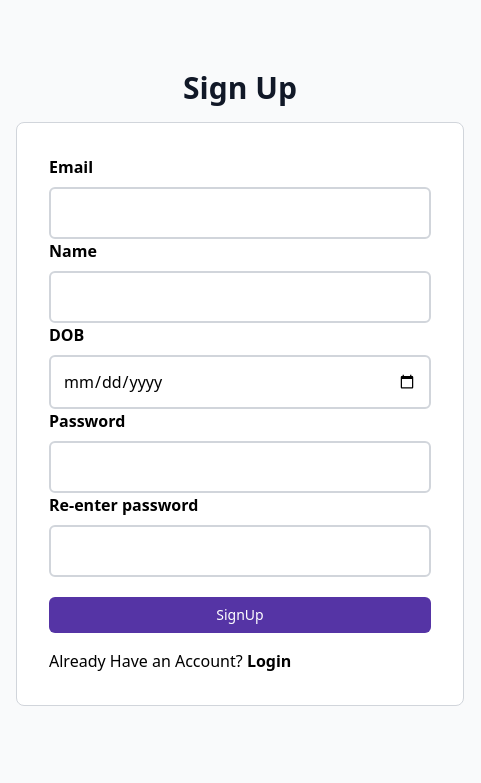
validation › Invalid email format
Type "invalidemail" into the field labelled "Email" at [240, 213], box [49,187,431,239]
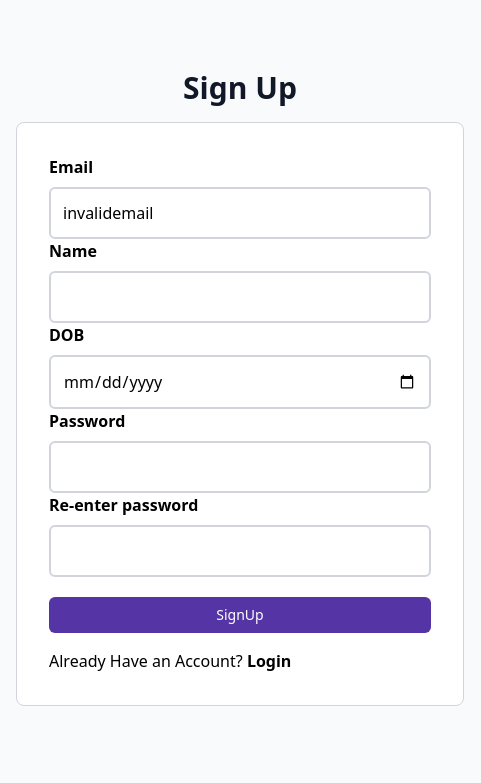
Submit the form from the button "SignUp", box [49,597,431,633]
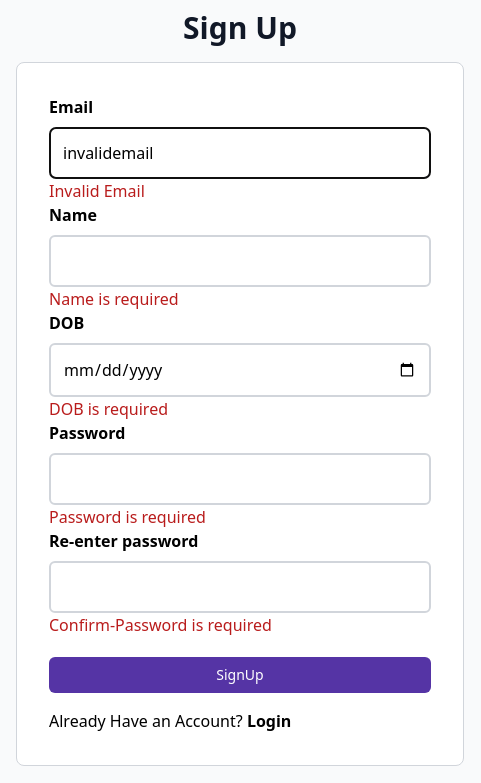
Expected: the text "Invalid Email" is shown, [49,180,145,202]
